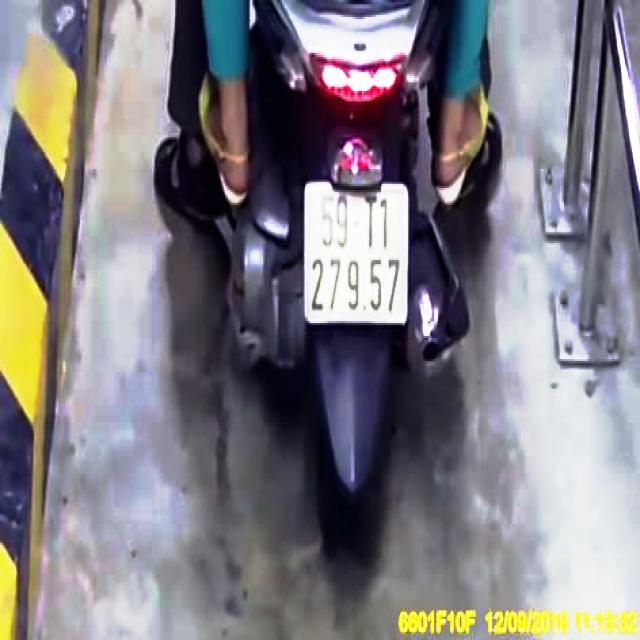license_plate: (304, 187, 410, 323)
